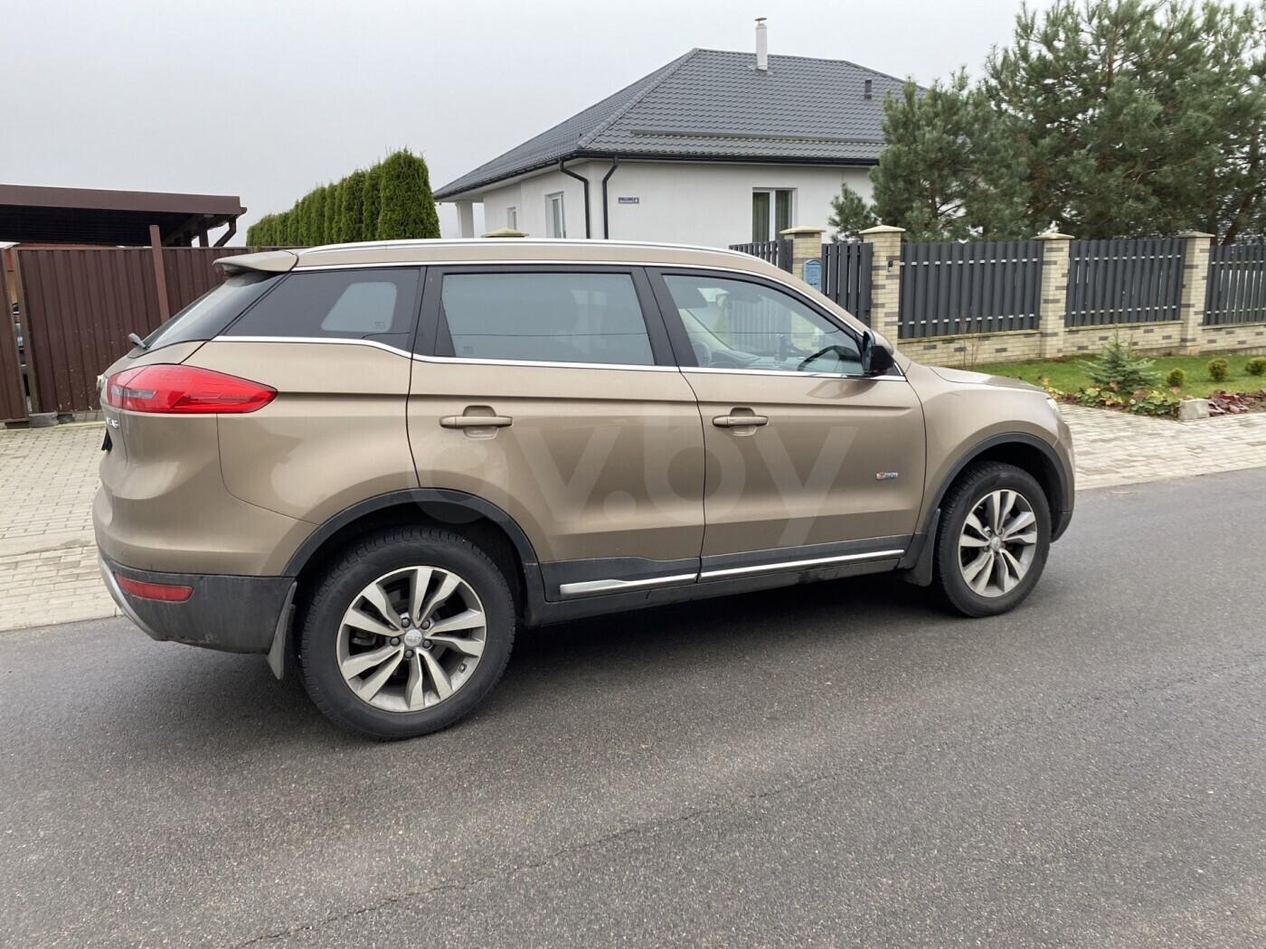Atlas_2016-2023: (87, 236, 1080, 745)
